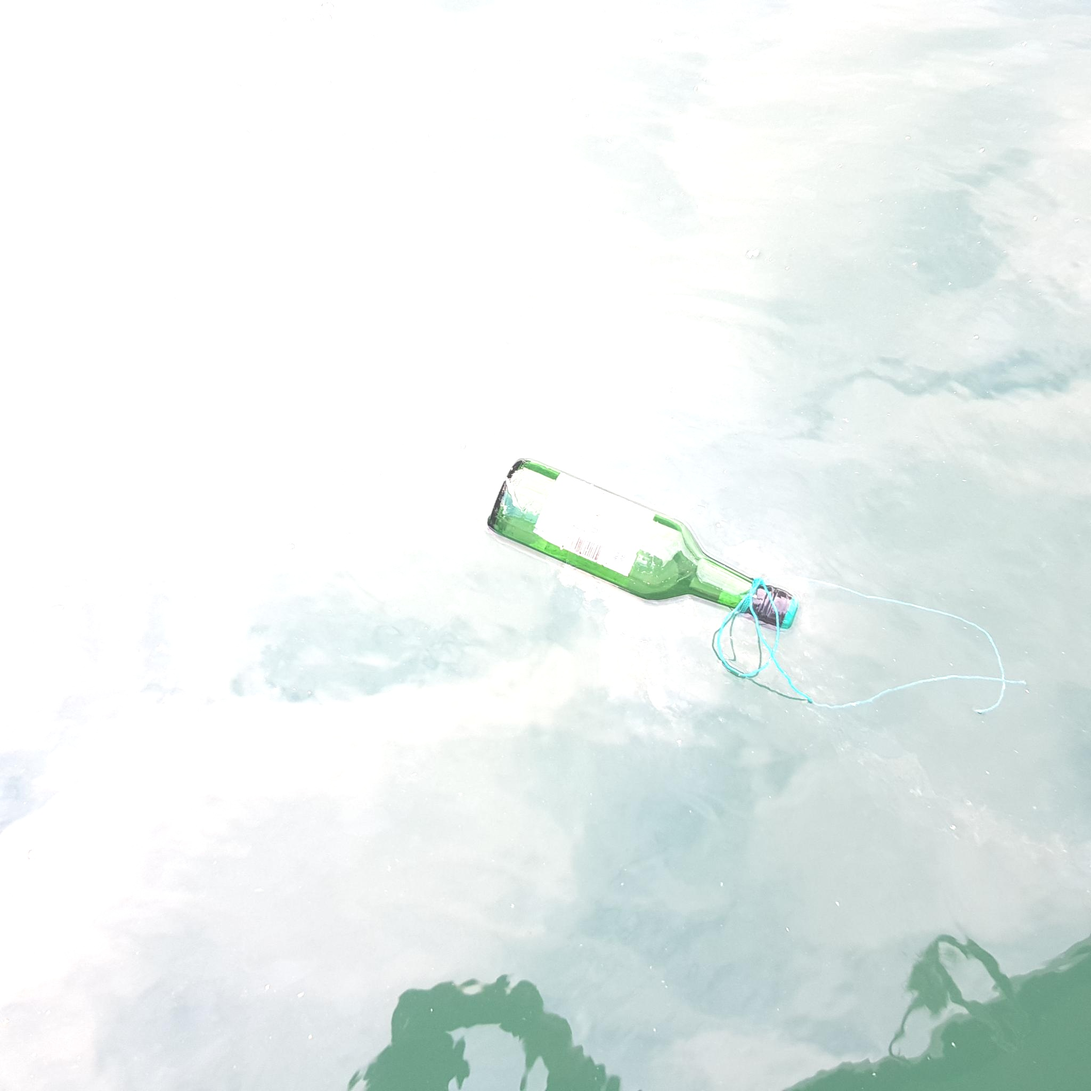sampah_terapung: (487, 458, 798, 629)
